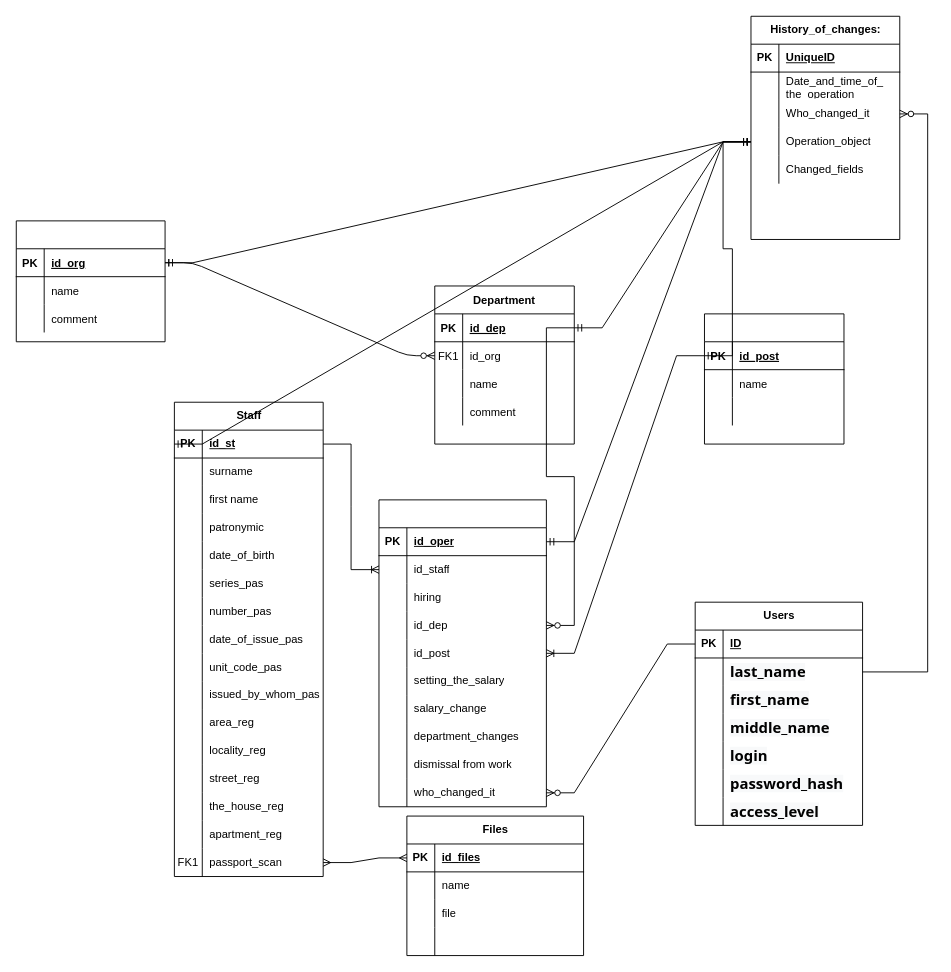
This 951x972 diagram has some shape labels left out. The shapes that lost their labels are listed below. From the top down, each one's box as (x1, y1, x2, y2) in pixels, then its label:
(15, 220, 165, 342): Organizations
(704, 313, 844, 444): Position
(378, 499, 546, 807): HR_operations
